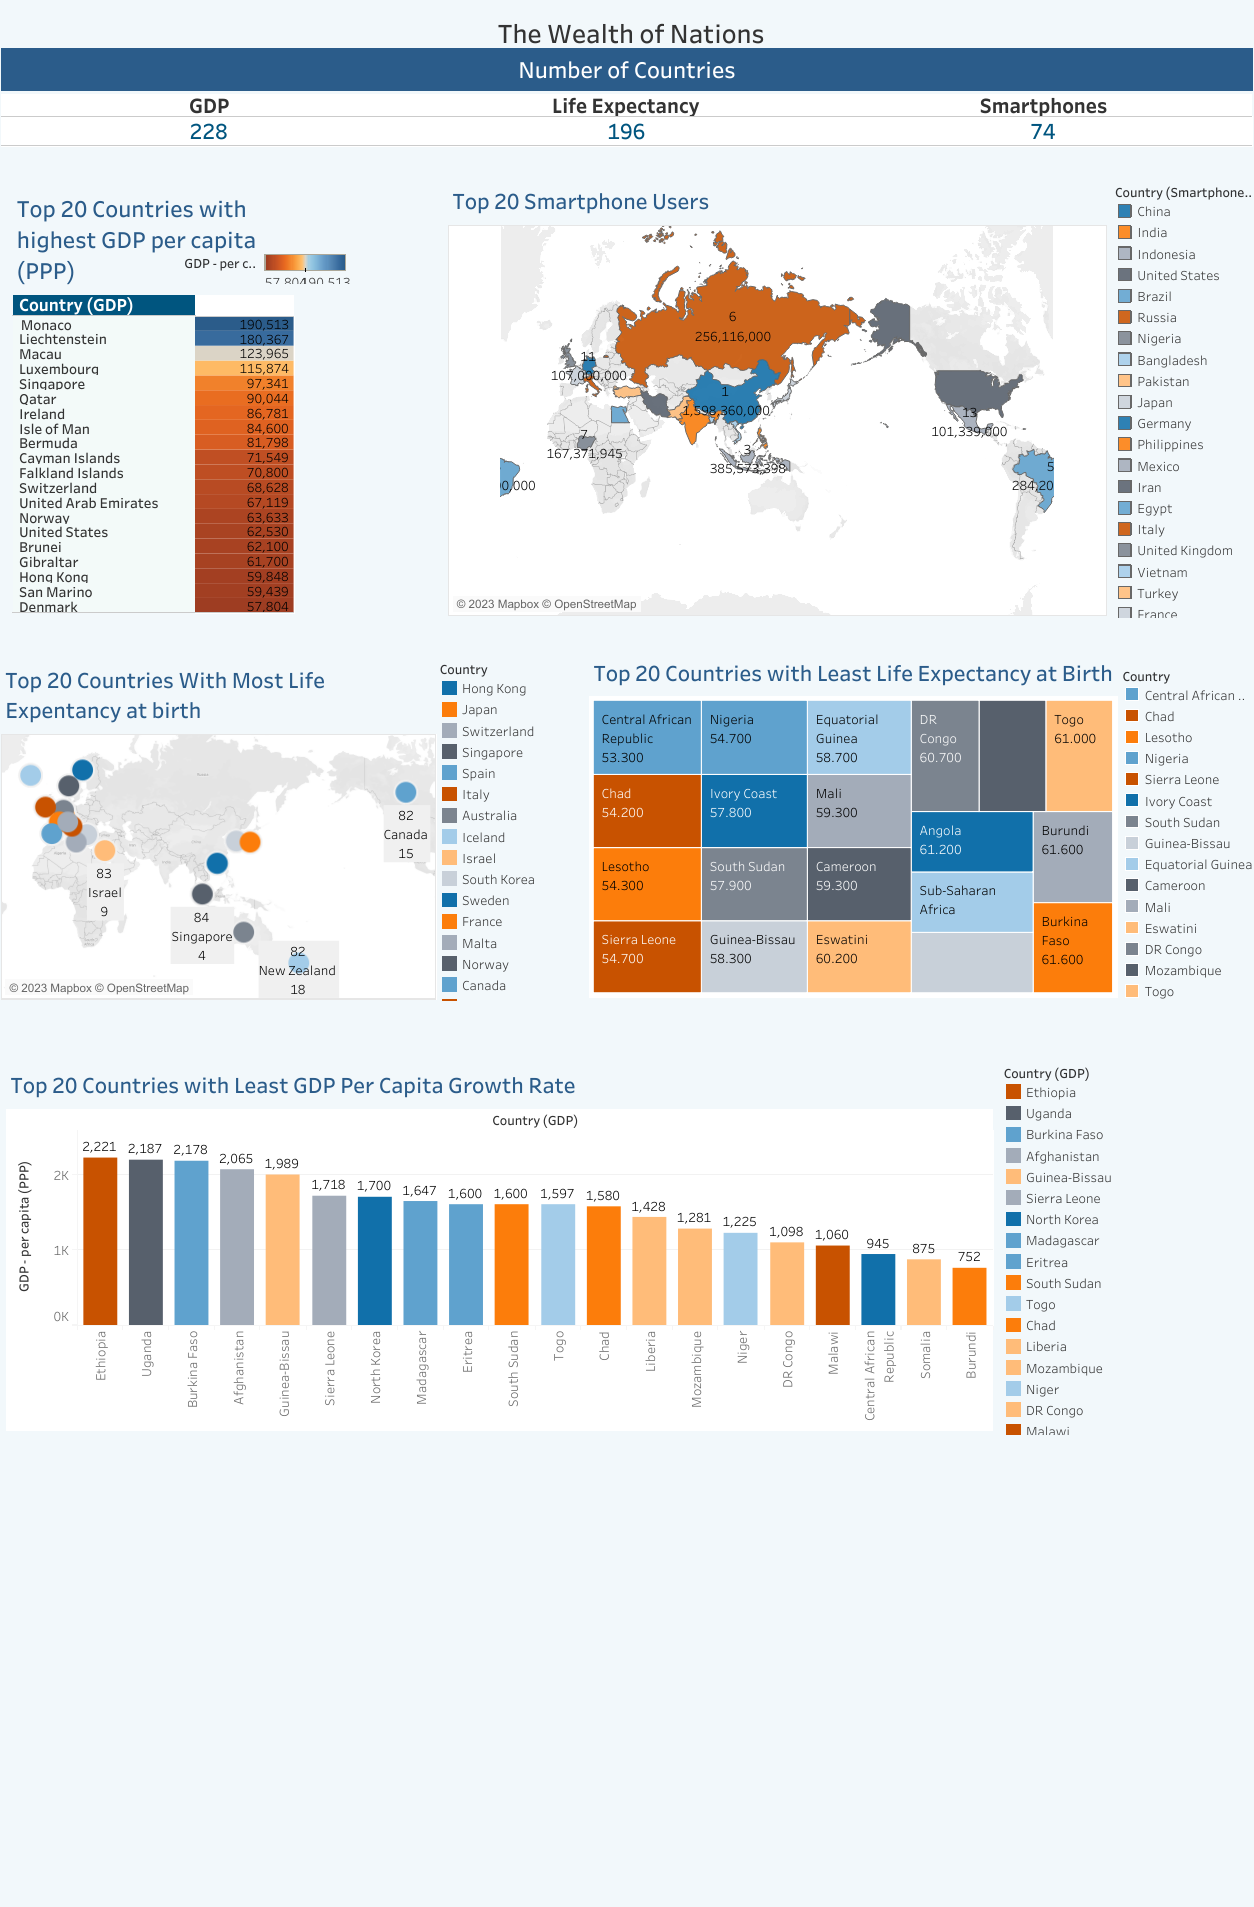

The dashboard page shown, as its layout file describes it:
{"tool":"tableau","page":{"name":"The Wealth of Nations","canvas":[1000,1000],"units":"permille","ordinal":1},"visuals":[{"type":"title","box":[7.8,7.5,990.2,19]},{"type":"worksheet","title":"Number of Countries","mark":"Automatic","box":[1,25,997.1,60.6]},{"type":"worksheet","title":"Top 20 Smartphone Users","mark":"Multipolygon","box":[357.4,94,525.4,228.5]},{"type":"legend","title":"Top 20 Smartphone Users","param":"[federated.1yw8htz18lgqlz1didp9y1l6v37e].[none:Country (Smartphones):nk]","box":[887.7,94.5,110.4,229.5]},{"type":"worksheet","title":"Top 20 Countries with highest GDP per capita (PPP)","mark":"Square","rows":["Country (GDP)"],"box":[9.8,97.5,343.8,224]},{"type":"legend","title":"Top 20 Countries with highest GDP per capita (PPP)","param":"[federated.1yw8htz18lgqlz1didp9y1l6v37e].[sum:GDP - per capita (PPP):qk]","box":[146.8,131,133.1,18]},{"type":"worksheet","title":"Top 20 Countries with Least Life Expectancy at Birth","mark":"Automatic","box":[469.7,341.1,420.9,182.2]},{"type":"legend","title":"Top 20 Countries With Most Life Expentancy at birth","param":"[federated.1yw8htz18lgqlz1didp9y1l6v37e].[none:Country:nk]","box":[349.6,344.4,111.3,180]},{"type":"worksheet","title":"Top 20 Countries With Most Life Expentancy at birth","mark":"Automatic","box":[0.8,345,347.6,179]},{"type":"legend","title":"Top 20 Countries with Least Life Expectancy at Birth","param":"[federated.1yw8htz18lgqlz1didp9y1l6v37e].[none:Country:nk]","box":[893.6,347.5,104.5,177.5]},{"type":"legend","title":"Top 20 Countries with Least GDP Per Capita Growth Rate","param":"[federated.1yw8htz18lgqlz1didp9y1l6v37e].[none:Country (GDP):nk]","box":[798.8,556,139.7,196]},{"type":"worksheet","title":"Top 20 Countries with Least GDP Per Capita Growth Rate","mark":"Automatic","rows":["GDP - per capita (PPP)"],"cols":["Country (GDP)"],"box":[4.9,557,787.1,193]}]}

Visuals, with their boxes on the dashboard's canvas, which has no fixed pixel size, in thousandths of its width and height (x1, y1, x2, y2). These are canvas units, not pixel positions in the 1254x1907 screenshot, which may show the page scaled, cropped or inside an application window:
title: detection(8, 8, 998, 26)
"Number of Countries" worksheet: detection(1, 25, 998, 86)
"Top 20 Smartphone Users" worksheet (Multipolygon marks): detection(357, 94, 883, 322)
"Top 20 Smartphone Users" legend: detection(888, 94, 998, 324)
"Top 20 Countries with highest GDP per capita (PPP)" worksheet (Square marks): detection(10, 98, 354, 322)
"Top 20 Countries with highest GDP per capita (PPP)" legend: detection(147, 131, 280, 149)
"Top 20 Countries with Least Life Expectancy at Birth" worksheet: detection(470, 341, 891, 523)
"Top 20 Countries With Most Life Expentancy at birth" legend: detection(350, 344, 461, 524)
"Top 20 Countries With Most Life Expentancy at birth" worksheet: detection(1, 345, 348, 524)
"Top 20 Countries with Least Life Expectancy at Birth" legend: detection(894, 348, 998, 525)
"Top 20 Countries with Least GDP Per Capita Growth Rate" legend: detection(799, 556, 938, 752)
"Top 20 Countries with Least GDP Per Capita Growth Rate" worksheet: detection(5, 557, 792, 750)
